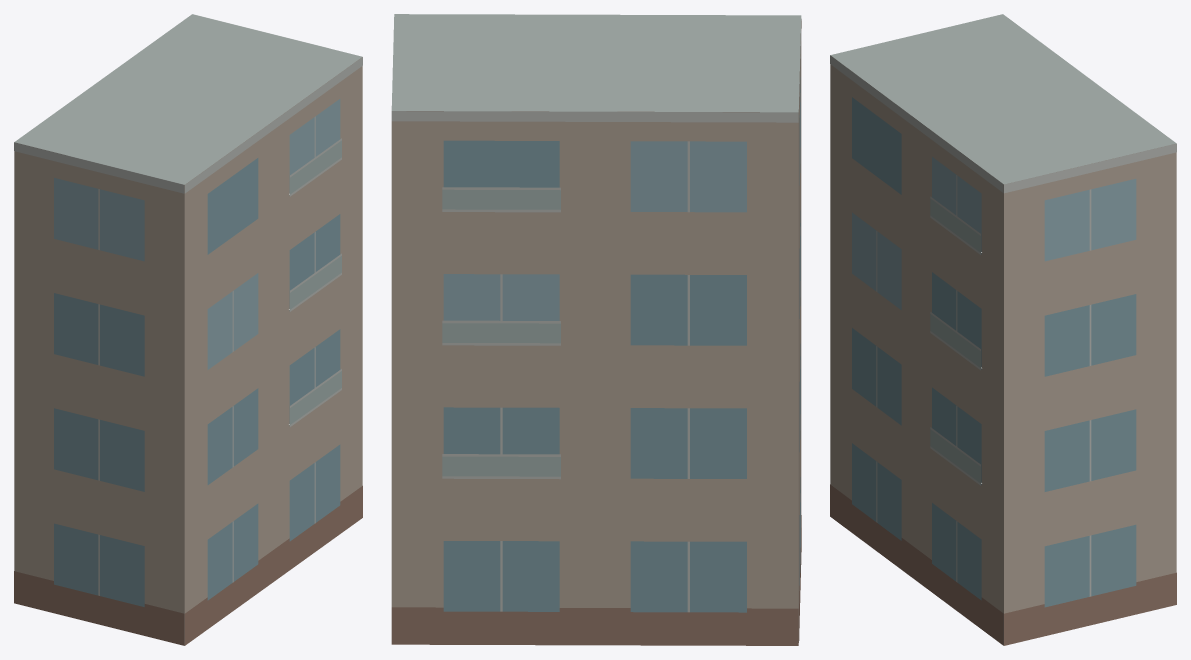
File: survey-upis-32504036.glb
The picture shows the model from 3 angles, left to right: view 1: azimuth 30°, elevation 25°; view 2: azimuth 150°, elevation 25°; view 3: azimuth 270°, elevation 25°; orthographic projection. The views are drawn at different scales.
Parts seen in each view (by area): view 1: survey-upis-32504036.tmp; view 2: survey-upis-32504036.tmp; view 3: survey-upis-32504036.tmp.
Boxes of the visible parts, x1=… form: survey-upis-32504036.tmp: x1=14, y1=14, x2=362, y2=645; survey-upis-32504036.tmp: x1=391, y1=14, x2=801, y2=645; survey-upis-32504036.tmp: x1=830, y1=14, x2=1176, y2=645.
Size of the model in its own units: 9.99 by 12.6 by 8.59.
